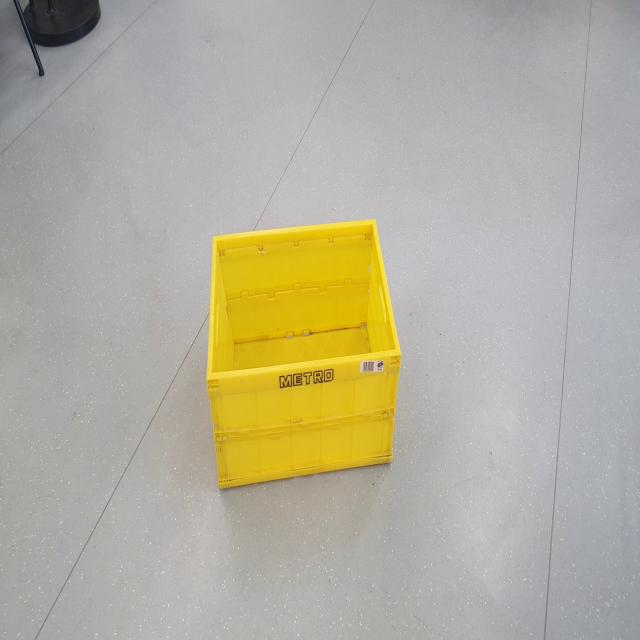box: (200, 202, 406, 502)
